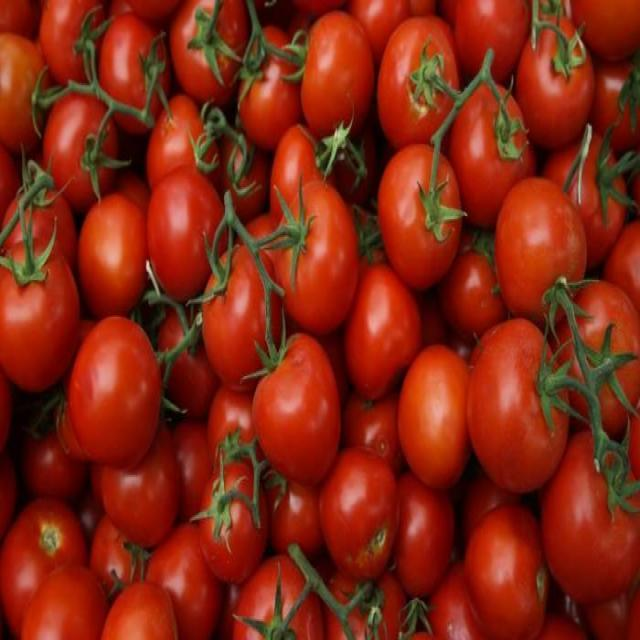kirmizi: (124, 160, 258, 326), (238, 324, 360, 478), (70, 322, 192, 452), (464, 334, 572, 470)
